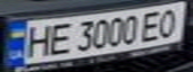0: (121, 11, 145, 44), (90, 16, 112, 50), (109, 14, 127, 47)
3: (75, 18, 96, 52)
E: (45, 20, 75, 56), (136, 8, 166, 42)
H: (18, 21, 54, 59)
O: (154, 4, 187, 38)
